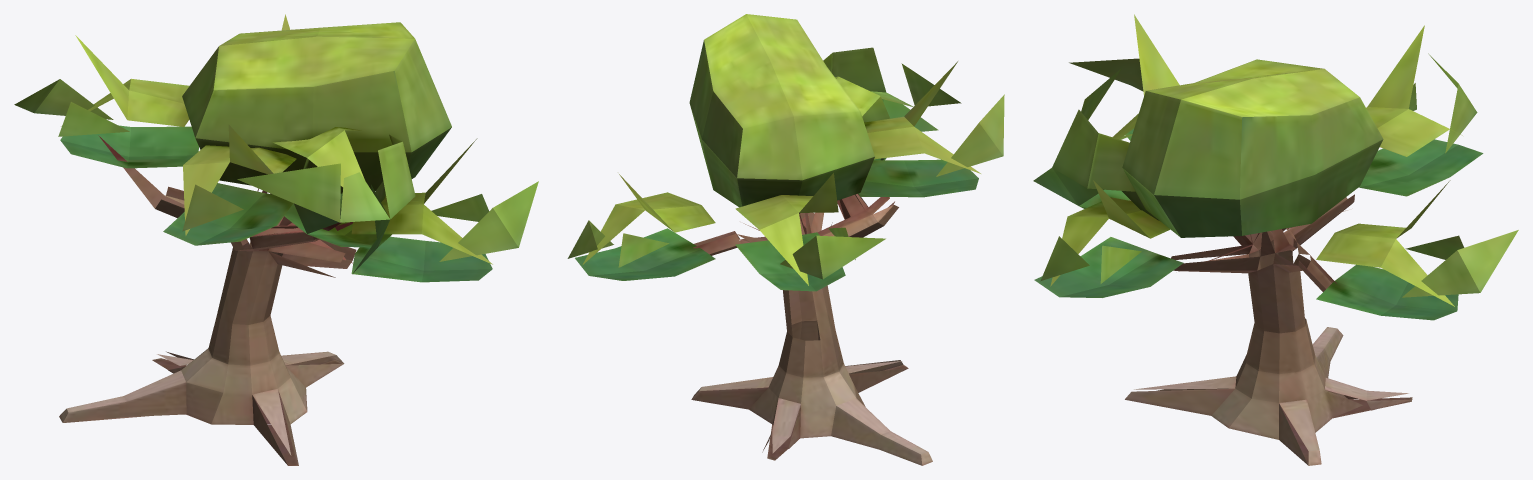
Rendered from arbol-3-lejos.glb.
3 renders of one model, left to right at view 1: azimuth 30°, elevation 25°; view 2: azimuth 150°, elevation 25°; view 3: azimuth 270°, elevation 25°, orthographic. The views are drawn at different scales.
Visible parts, largest first — view 1: Hojas3, Arbol3; view 2: Hojas3, Arbol3; view 3: Hojas3, Arbol3.
Boxes of the visible parts, x1=… form: Hojas3: x1=14, y1=14, x2=538, y2=282; Arbol3: x1=59, y1=135, x2=356, y2=465; Hojas3: x1=567, y1=14, x2=1004, y2=291; Arbol3: x1=691, y1=193, x2=932, y2=465; Hojas3: x1=1033, y1=14, x2=1518, y2=320; Arbol3: x1=1125, y1=194, x2=1412, y2=465.
Size of the model in its own units: 3.91 by 3.88 by 4.62.
2 materials, 2 textured.
